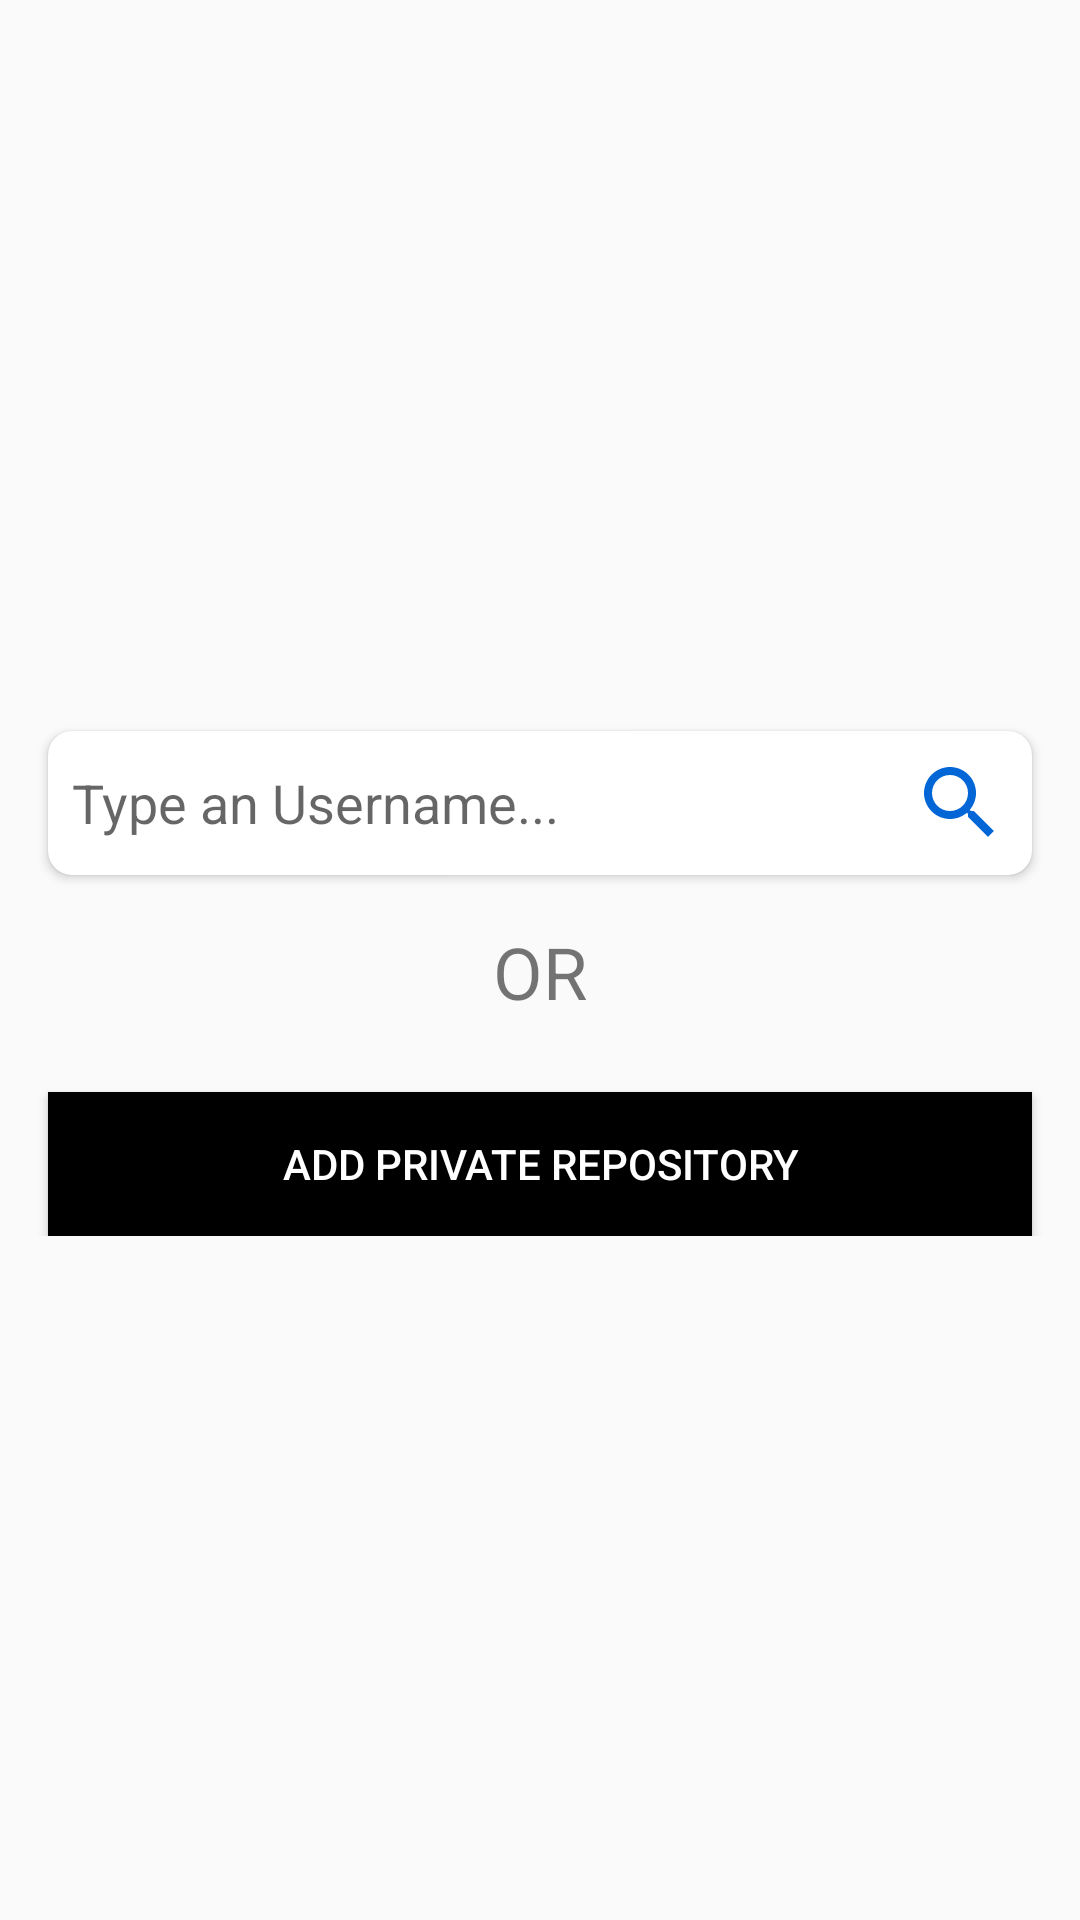

Screen size 1080×1920. Icon name, then its center in pixels as (x,y):
search: (959,802)
